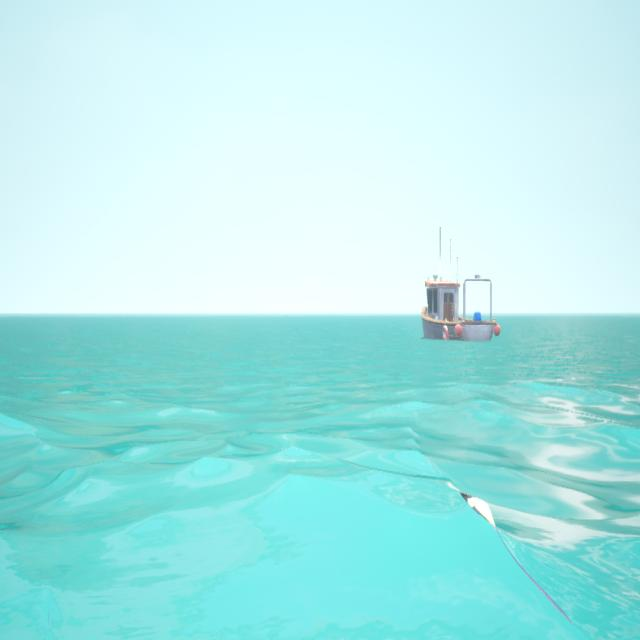ship: (414, 214, 506, 356)
